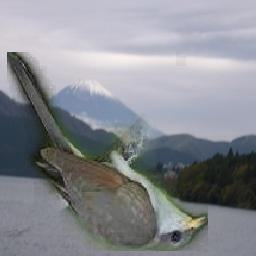Cuckoo: (8, 53, 209, 252)
